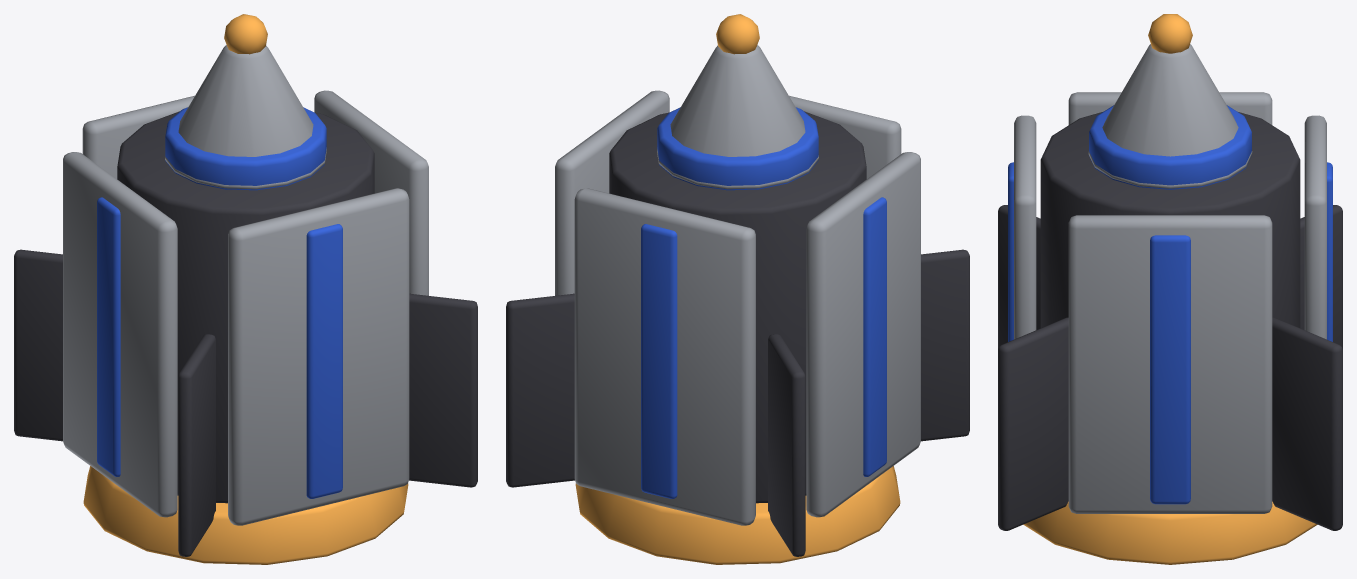
File: DropPod.glb
3 views of the same model, side by side, from view 1: azimuth 30°, elevation 25°; view 2: azimuth 150°, elevation 25°; view 3: azimuth 270°, elevation 25° (orthographic).
Visible parts, largest first — view 1: DropPod, Petal3, Petal2, Petal0, Petal1; view 2: DropPod, Petal1, Petal2, Petal0, Petal3; view 3: DropPod, Petal0, Petal1, Petal3, Petal2.
Part boxes in pixels (x1,y1,x2,y2): DropPod: (14, 14, 477, 564); Petal3: (228, 188, 409, 525); Petal2: (63, 152, 177, 517); Petal0: (314, 90, 428, 295); Petal1: (82, 95, 194, 178); DropPod: (506, 14, 969, 564); Petal1: (574, 188, 755, 525); Petal2: (806, 152, 920, 517); Petal0: (555, 90, 669, 295); Petal3: (789, 95, 901, 178); DropPod: (998, 14, 1342, 564); Petal0: (1068, 215, 1272, 513); Petal1: (1304, 115, 1332, 341); Petal3: (1008, 115, 1036, 341); Petal2: (1068, 92, 1272, 124).
Size of the model in its own units: 3.38 by 5.22 by 3.38.
